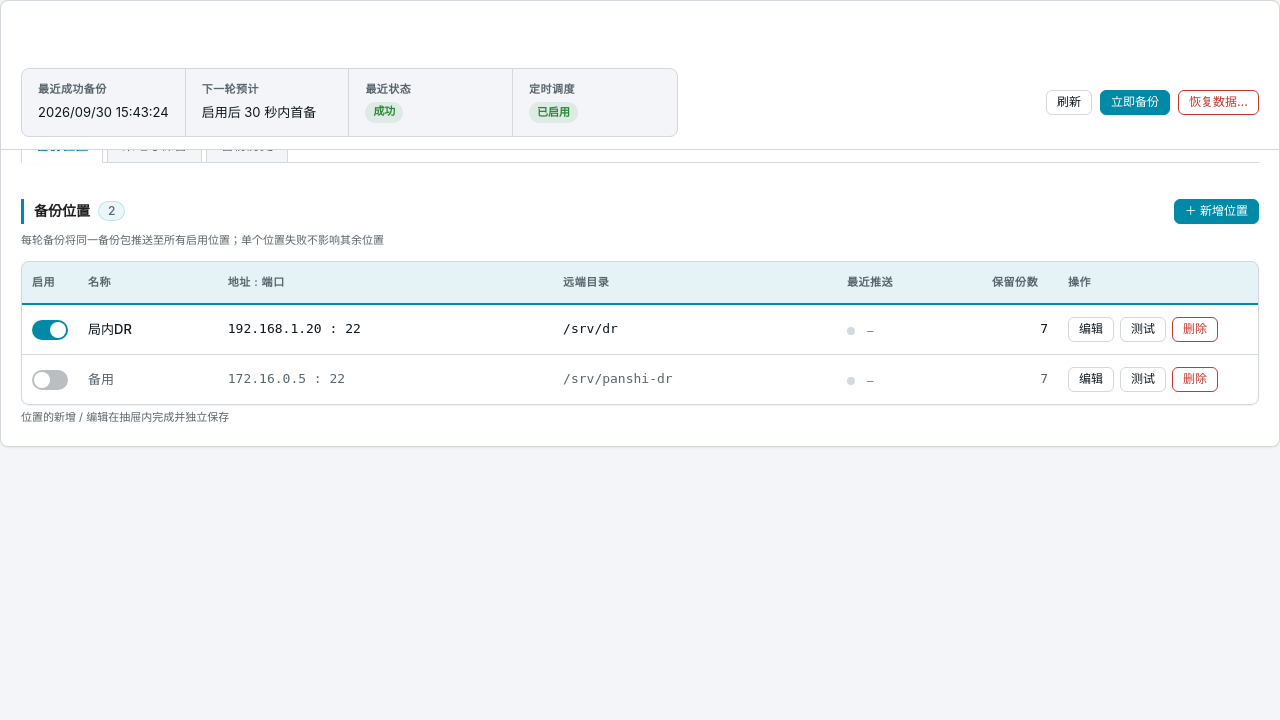
Scenario: L8 抽屉新增位置流程 › 必填缺失时保存被拦截并显示行内错误
The width and height of the screenshot is (1280, 720).
Click the button "＋ 新增位置": (1216, 211) [1174,199,1259,224]
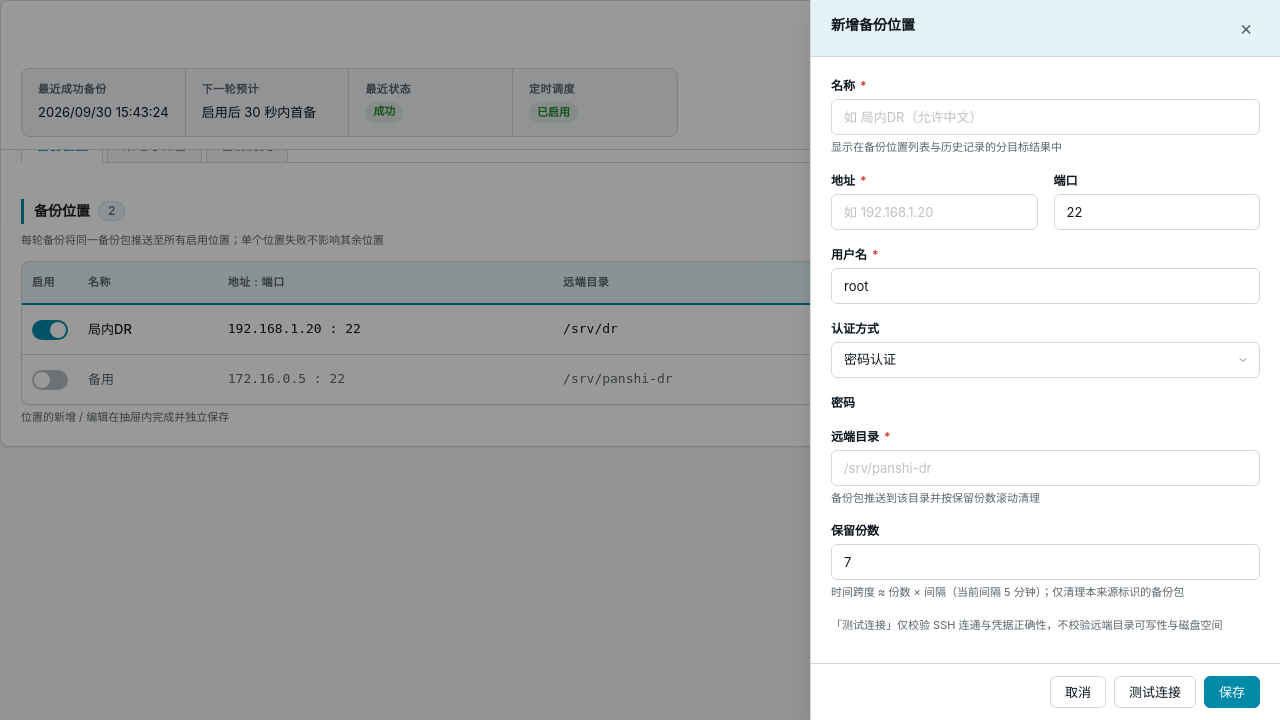
Click the button "保存": (1232, 692) [1204,676,1260,708]
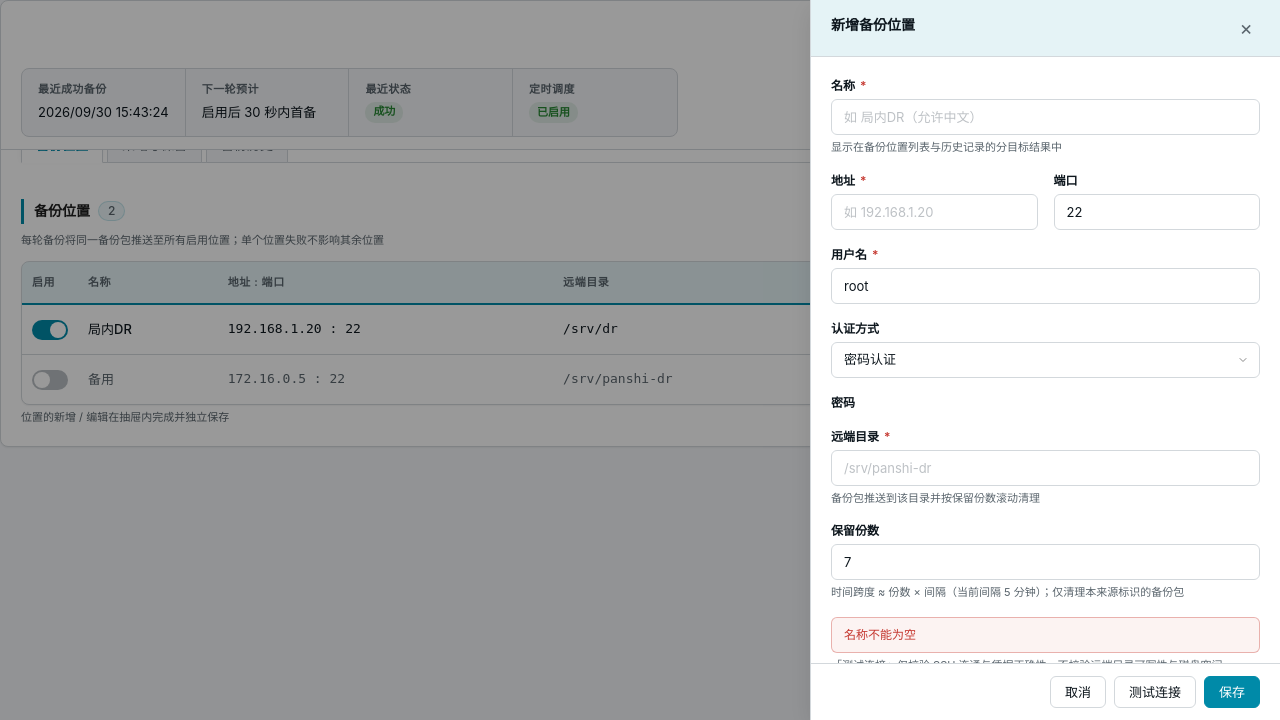
Expected: the text "名称不能为空" is shown, [831,616,1260,652]
